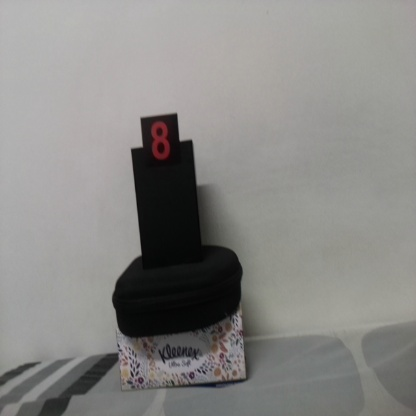id_8: (140, 117, 180, 177)
